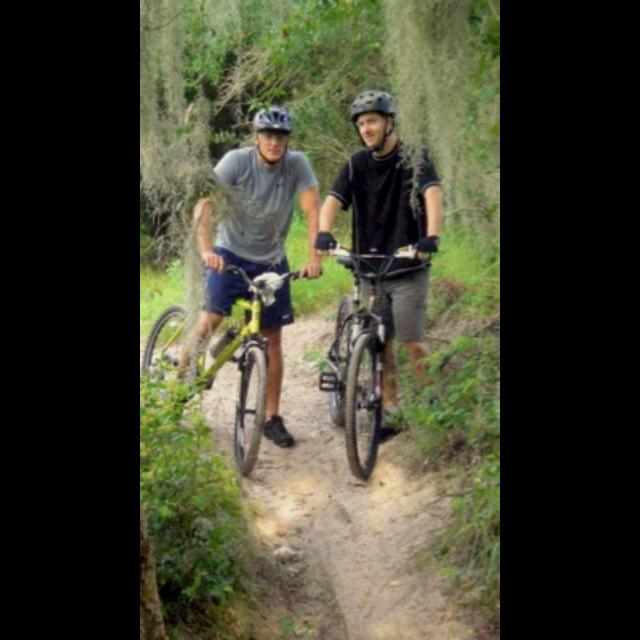With Helmet: (350, 88, 404, 152), (249, 102, 299, 166)
